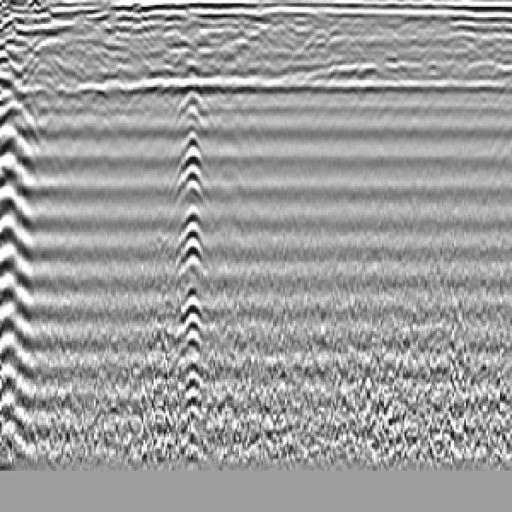non-metallic: (163, 52, 223, 442), (1, 43, 56, 446)
